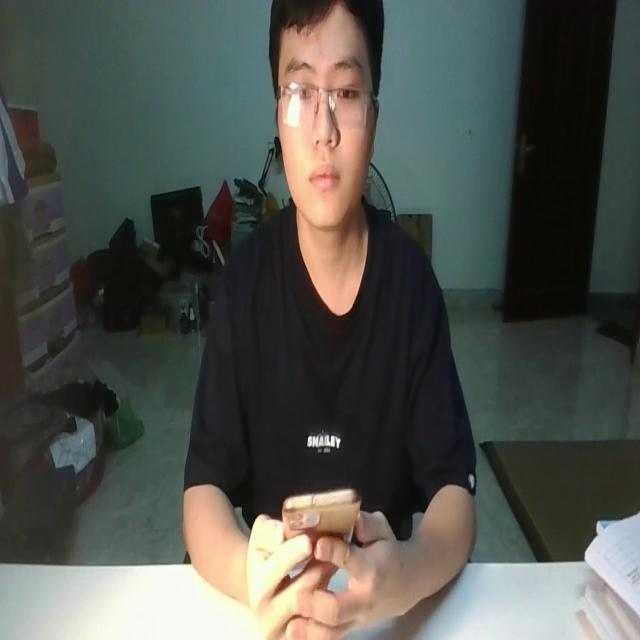phone: (275, 482, 361, 594)
student: (181, 0, 481, 640)
